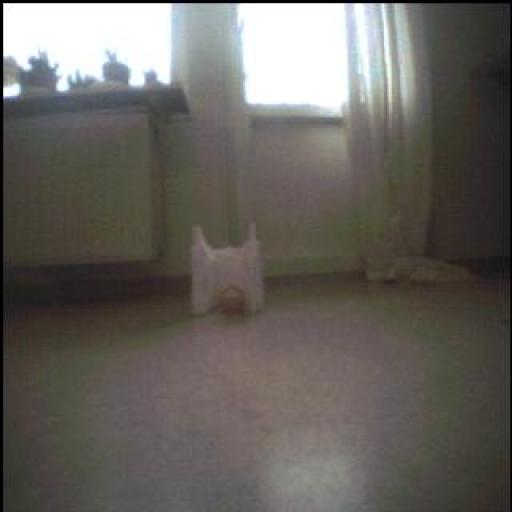Basket: (222, 288, 252, 318)
